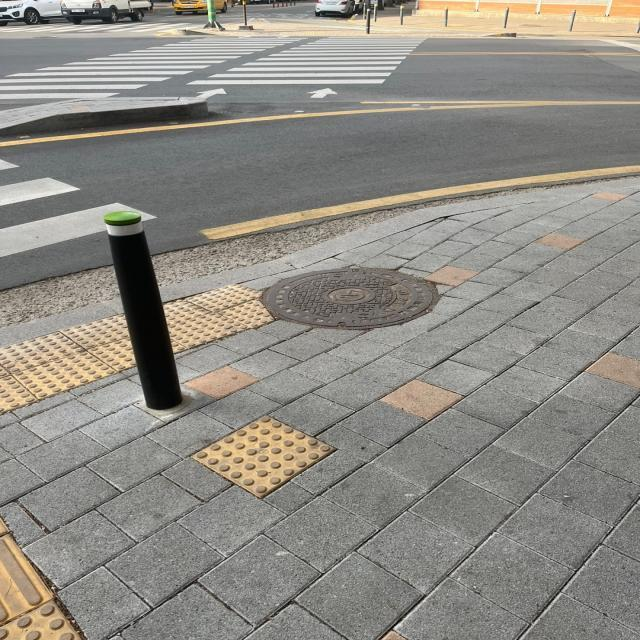manhole: (262, 268, 438, 328)
